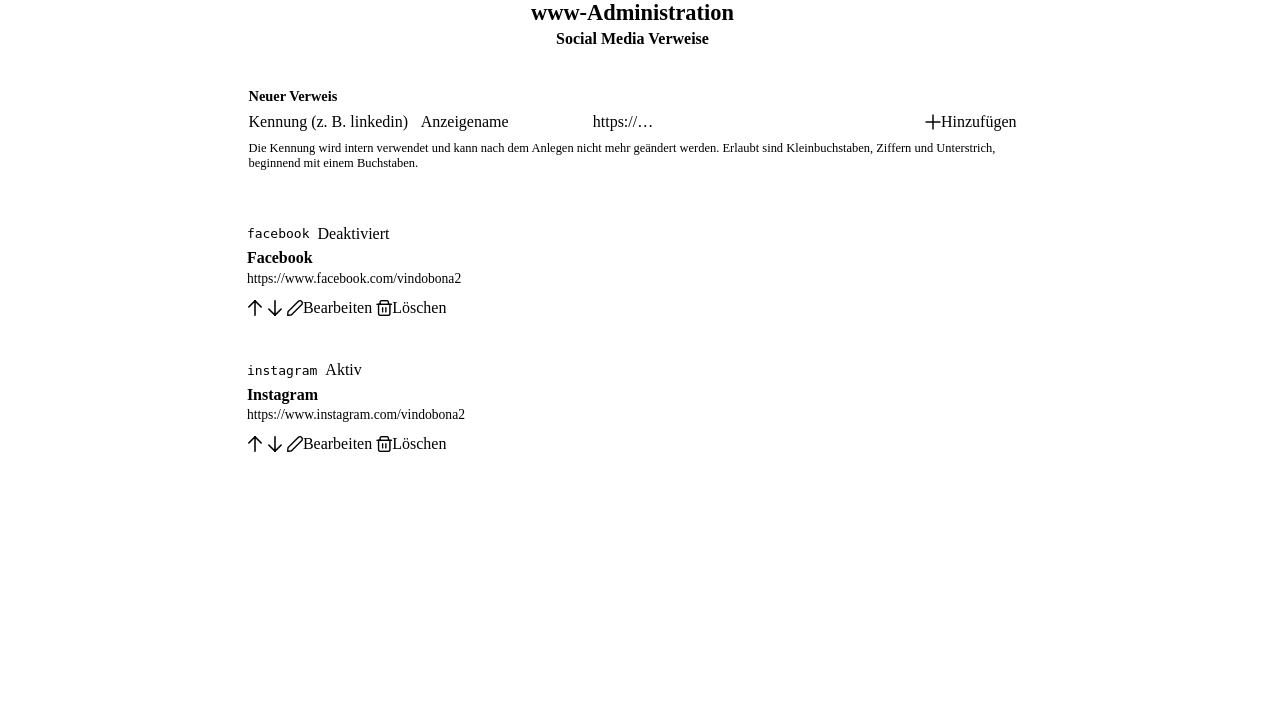
SocialLinksAdminView › regression: names the row buttons, the add fields and the dialog checkbox
Expected: the button with aria-label "Löschen: Facebook" is shown, [376, 299, 446, 317]
Expected: the button with aria-label "Bearbeiten: Instagram" is shown, [287, 435, 372, 453]
Click the button "Bearbeiten" below "https://www.facebook.com/vindobona2" at point(330, 308), box [287, 299, 372, 317]
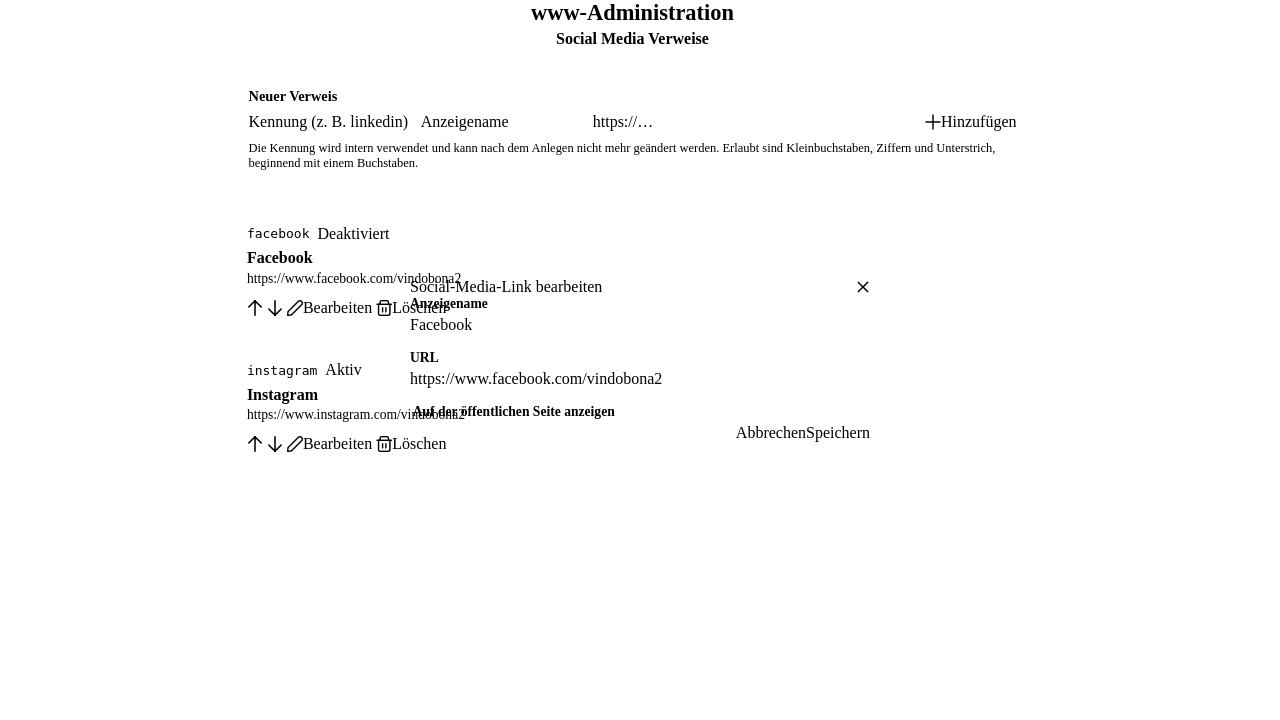
Result: the checkbox with id "edit-link-enabled" is shown at [410, 404, 615, 419]
